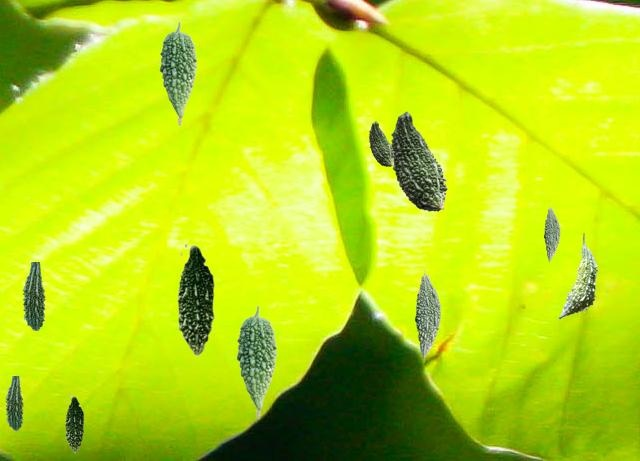ampalaya: (391, 111, 446, 210), (236, 305, 276, 418), (177, 243, 216, 356), (159, 21, 196, 125), (558, 233, 597, 318), (415, 267, 440, 357), (22, 262, 44, 329), (65, 395, 84, 452), (369, 121, 393, 165), (5, 376, 22, 429), (544, 203, 559, 260)
